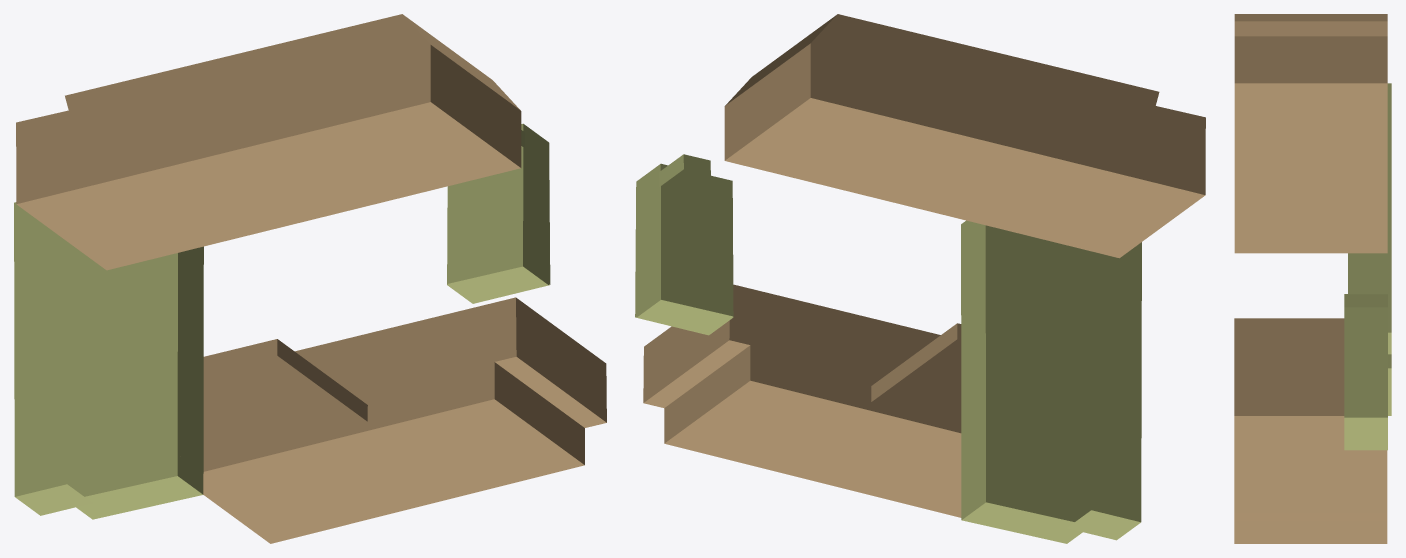
3 views of the same model, side by side, from view 1: azimuth 30°, elevation 25°; view 2: azimuth 150°, elevation 25°; view 3: azimuth 270°, elevation 25° (orthographic). The views are drawn at different scales.
Parts seen in each view (by area): view 1: 0_3_2_0_2_3_2_1; view 2: 0_3_2_0_2_3_2_1; view 3: 0_3_2_0_2_3_2_1.
Boxes of the visible parts, bbox=[...] form: 0_3_2_0_2_3_2_1: bbox=[14, 14, 606, 543]; 0_3_2_0_2_3_2_1: bbox=[635, 14, 1205, 543]; 0_3_2_0_2_3_2_1: bbox=[1234, 14, 1391, 543].
Size of the model in its own units: 68.2 by 52.55 by 21.58.
